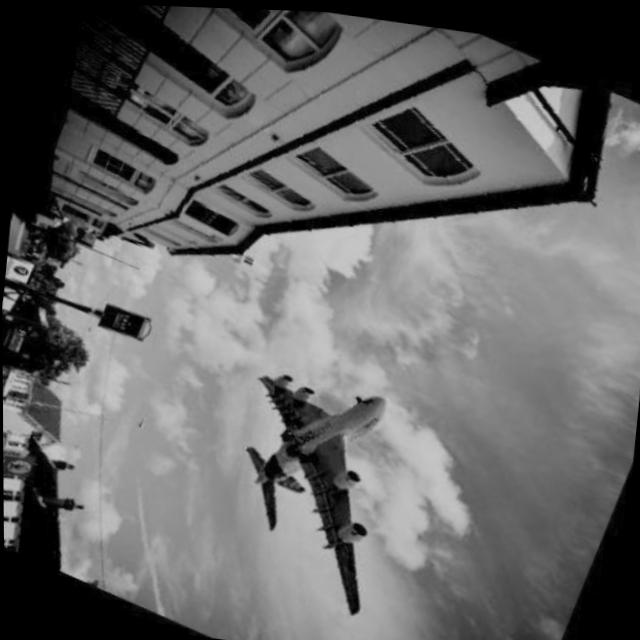aeroplane: (181, 332, 449, 626)
